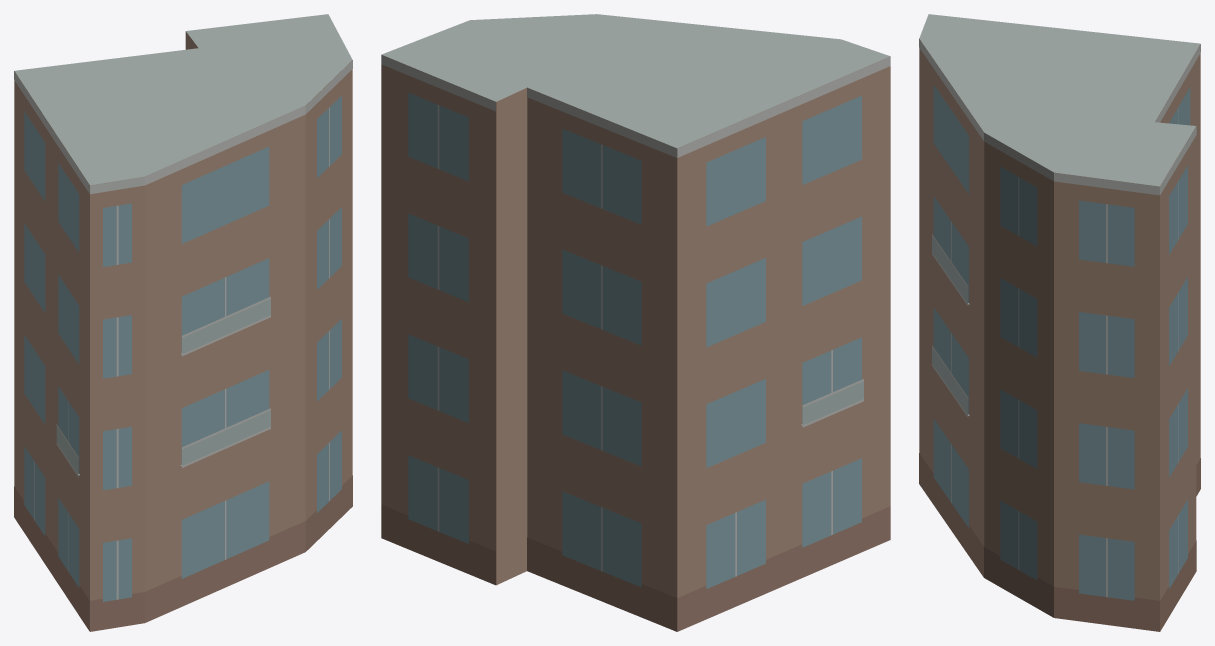
File: survey-upis-32460110.glb
3 renders of one model, left to right at view 1: azimuth 30°, elevation 25°; view 2: azimuth 150°, elevation 25°; view 3: azimuth 270°, elevation 25°, orthographic. The views are drawn at different scales.
Parts seen in each view (by area): view 1: survey-upis-32460110.tmp; view 2: survey-upis-32460110.tmp; view 3: survey-upis-32460110.tmp.
Boxes of the visible parts, left/top/right/bottom form: survey-upis-32460110.tmp: left=14, top=14, right=352, bottom=631; survey-upis-32460110.tmp: left=381, top=14, right=890, bottom=631; survey-upis-32460110.tmp: left=919, top=14, right=1200, bottom=631.
Size of the model in its own units: 10.14 by 12.2 by 7.
